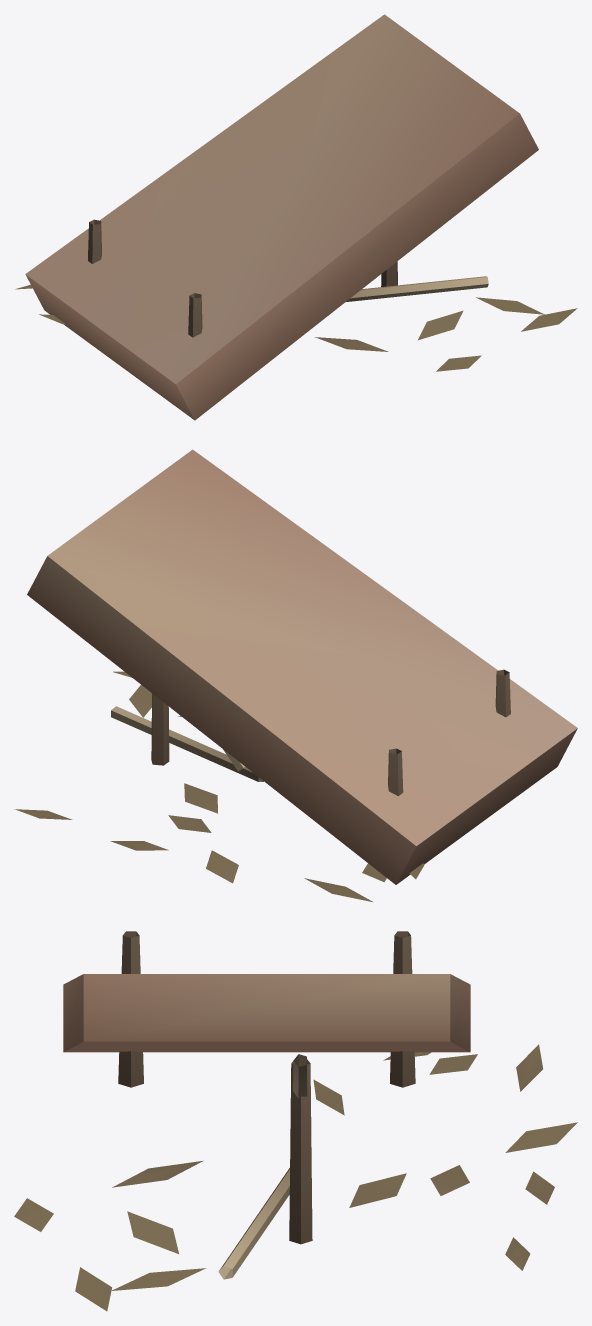
Rendered from stone_deadfall_a.glb.
3 views of the same model, one above another, from view 1: azimuth 30°, elevation 25°; view 2: azimuth 150°, elevation 25°; view 3: azimuth 270°, elevation 25° (orthographic). The views are drawn at different scales.
Parts seen in each view (by area): view 1: Weight, Frame; view 2: Weight, Frame; view 3: Weight, Frame.
Part boxes in pixels (x1=…): Weight: x1=25, y1=14, x2=538, y2=420; Frame: x1=15, y1=219, x2=577, y2=371; Weight: x1=27, y1=449, x2=577, y2=884; Frame: x1=14, y1=669, x2=510, y2=902; Weight: x1=63, y1=974, x2=470, y2=1052; Frame: x1=14, y1=931, x2=577, y2=1311.
Size of the model in its own units: 0.9622 by 0.5044 by 0.8307.
